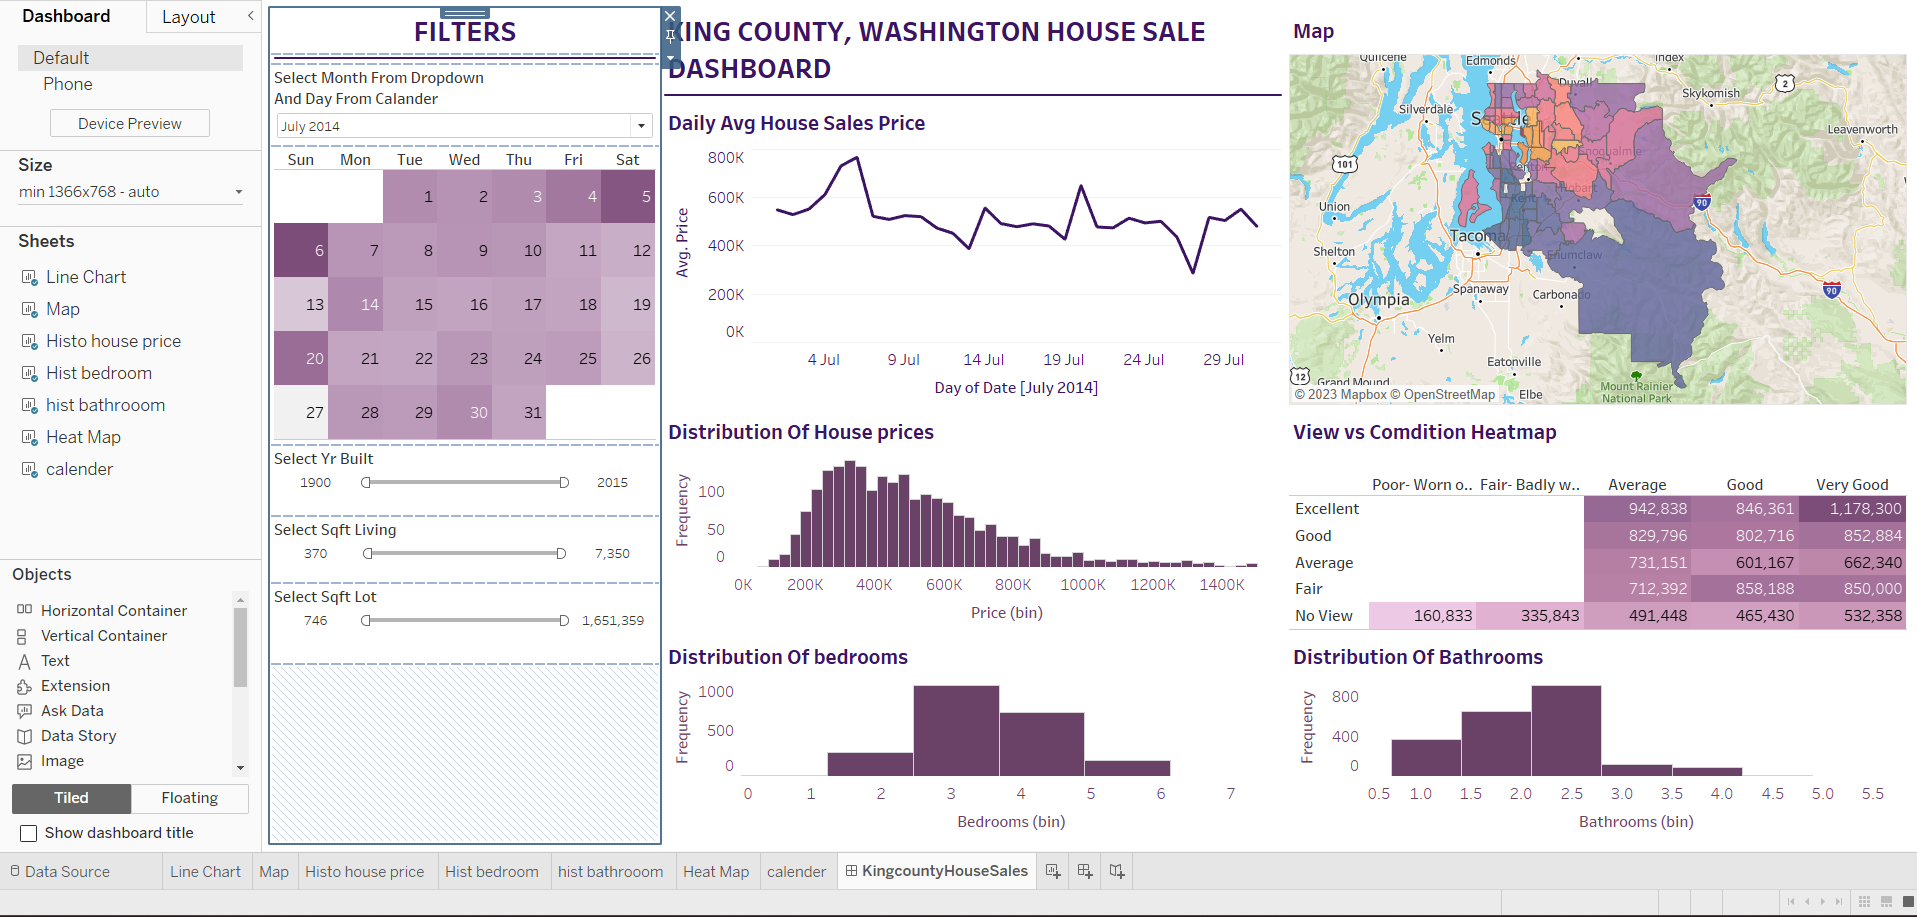

What the dashboard file says about the page in this screenshot:
{"tool":"tableau","page":{"name":"KingcountyHouseSales","canvas":[1000,1000],"units":"permille","ordinal":0},"visuals":[{"type":"text","box":[4.8,9.4,235.4,52.9]},{"type":"text","box":[240.2,9.4,377.5,96.4]},{"type":"worksheet","title":"Map","mark":"Automatic","box":[617.7,9.4,377.5,471.2]},{"type":"blank","box":[4.8,62.3,235.4,11.8]},{"type":"filter","title":"calender","param":"[federated.1lsl8q510vujlc1b67lw11ml5vzn].[my:date:ok]","box":[4.8,74,235.4,96.4]},{"type":"blank","box":[240.2,105.8,377.5,11.8]},{"type":"worksheet","title":"Line Chart","mark":"Automatic","rows":["price"],"cols":["date"],"box":[240.2,117.5,377.5,363.1]},{"type":"worksheet","title":"calender","mark":"Square","rows":["date"],"cols":["date"],"box":[4.8,170.4,235.4,351.4]},{"type":"worksheet","title":"Histo house price","mark":"Automatic","rows":["price"],"cols":["Price (bin)"],"box":[240.2,480.6,377.5,264.4]},{"type":"worksheet","title":"Heat Map","mark":"Square","rows":["view"],"cols":["condition"],"box":[617.7,480.6,377.5,264.7]},{"type":"filter","title":"calender","param":"[federated.1lsl8q510vujlc1b67lw11ml5vzn].[none:yr_built:qk]","box":[4.8,521.7,235.4,83.4]},{"type":"filter","title":"calender","param":"[federated.1lsl8q510vujlc1b67lw11ml5vzn].[none:sqft_living:qk]","box":[4.8,605.2,235.4,78.7]},{"type":"filter","title":"calender","param":"[federated.1lsl8q510vujlc1b67lw11ml5vzn].[none:sqft_lot:qk]","box":[4.8,683.9,235.4,95.2]},{"type":"worksheet","title":"Hist bedroom","mark":"Automatic","rows":["bedrooms"],"cols":["Bedrooms (bin)"],"box":[240.2,745,377.5,245.6]},{"type":"worksheet","title":"hist bathrooom","mark":"Automatic","rows":["bathrooms"],"cols":["Bathrooms (bin)"],"box":[617.7,745.3,377.5,245.3]}]}

Visuals, with their boxes on the dashboard's canvas, which has no fixed pixel size, in thousandths of its width and height (x1, y1, x2, y2). These are canvas units, not pixel positions in the 1917x917 screenshot, which may show the page scaled, cropped or inside an application window:
text: (5, 9, 240, 62)
text: (240, 9, 618, 106)
"Map" worksheet: (618, 9, 995, 481)
blank: (5, 62, 240, 74)
"calender" filter: (5, 74, 240, 170)
blank: (240, 106, 618, 118)
"Line Chart" worksheet: (240, 118, 618, 481)
"calender" worksheet (Square marks): (5, 170, 240, 522)
"Histo house price" worksheet: (240, 481, 618, 745)
"Heat Map" worksheet (Square marks): (618, 481, 995, 745)
"calender" filter: (5, 522, 240, 605)
"calender" filter: (5, 605, 240, 684)
"calender" filter: (5, 684, 240, 779)
"Hist bedroom" worksheet: (240, 745, 618, 991)
"hist bathrooom" worksheet: (618, 745, 995, 991)
